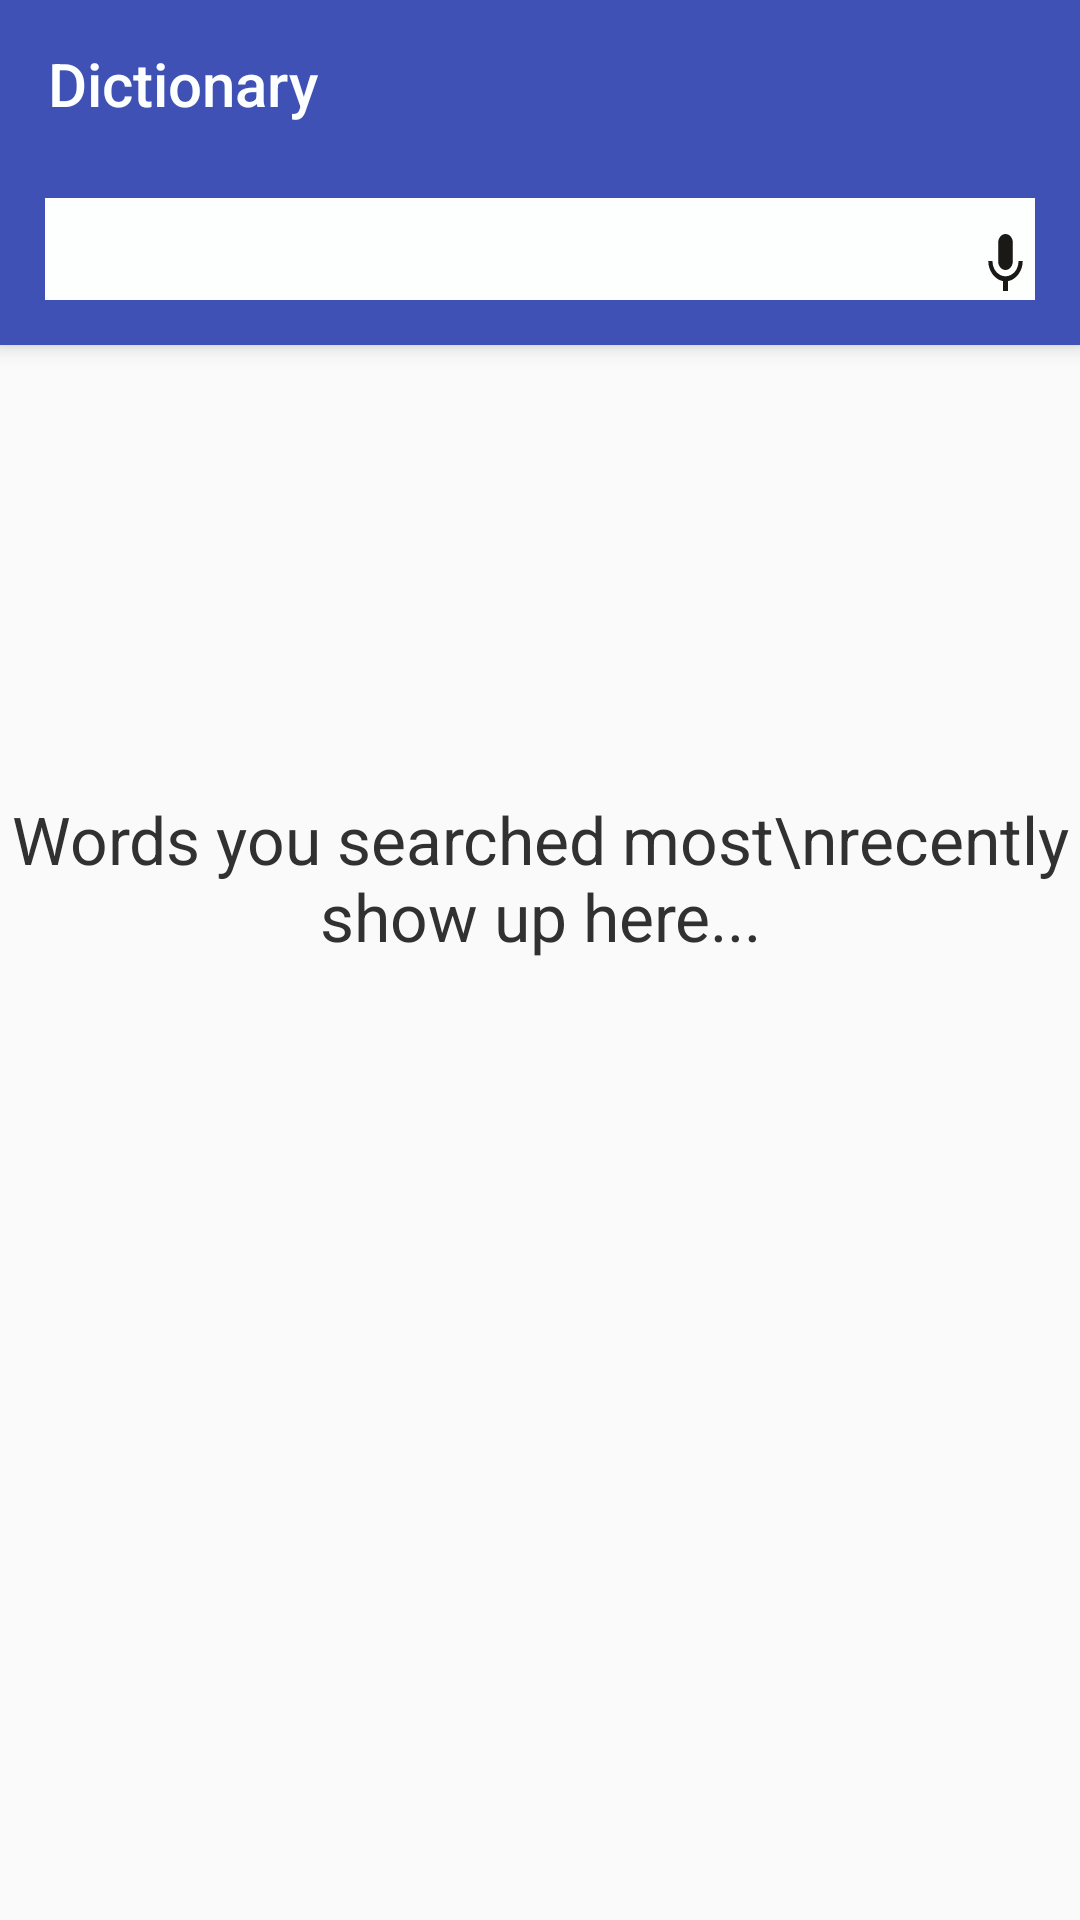

Icon bounding boxes for this 1080x1920 phone screenshot, format (left=x1, top=y1, right=x2, bottom=y2):
mic: (left=988, top=234, right=1023, bottom=291)
